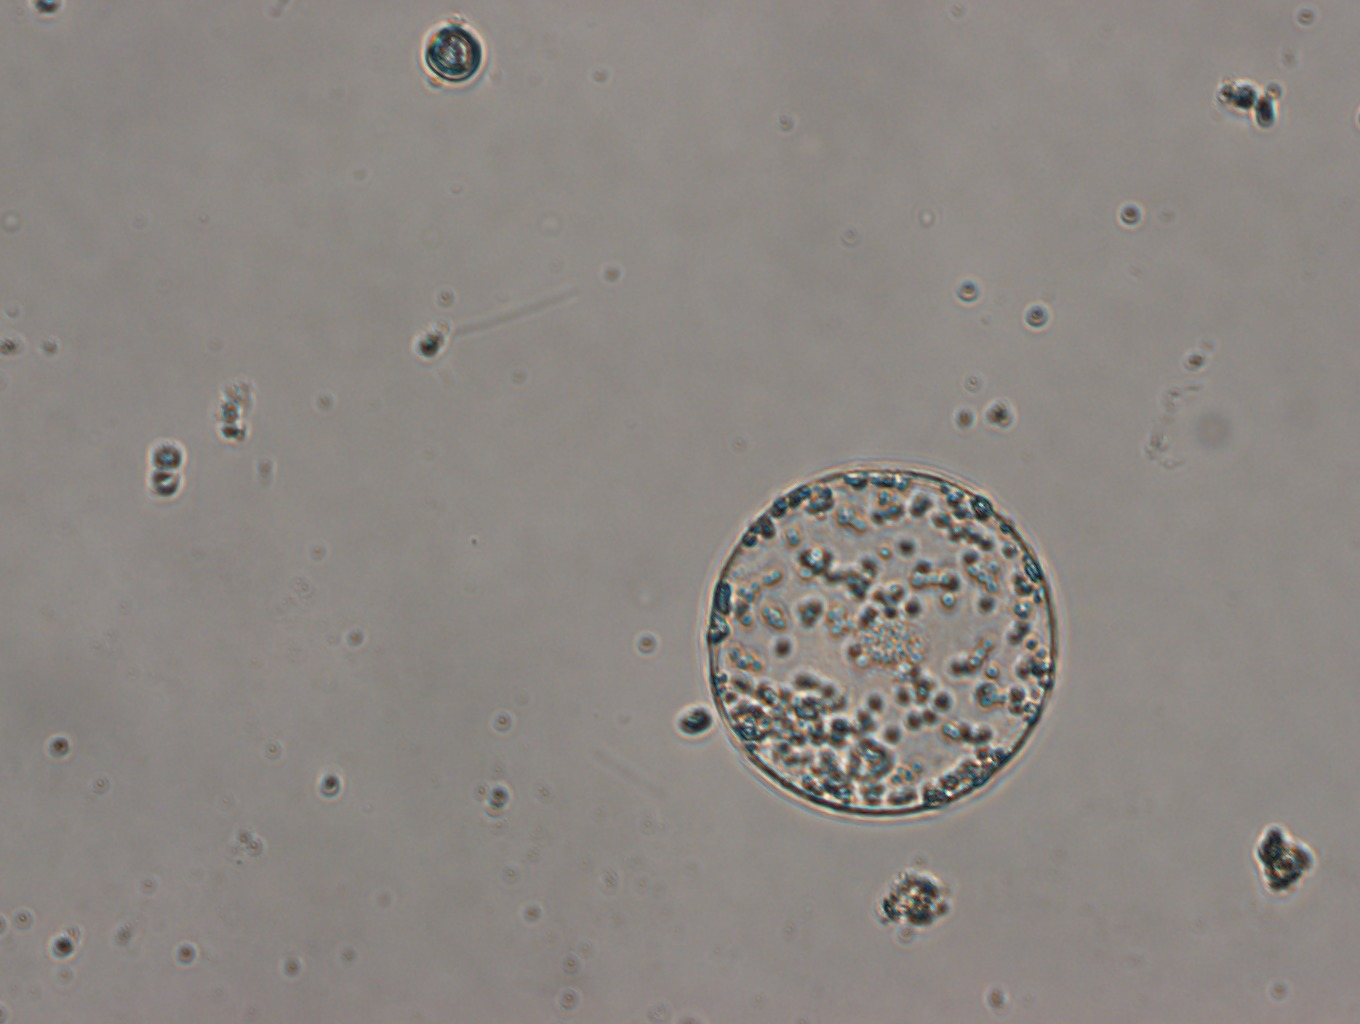coscinodiscus: (707, 466, 1060, 817)
